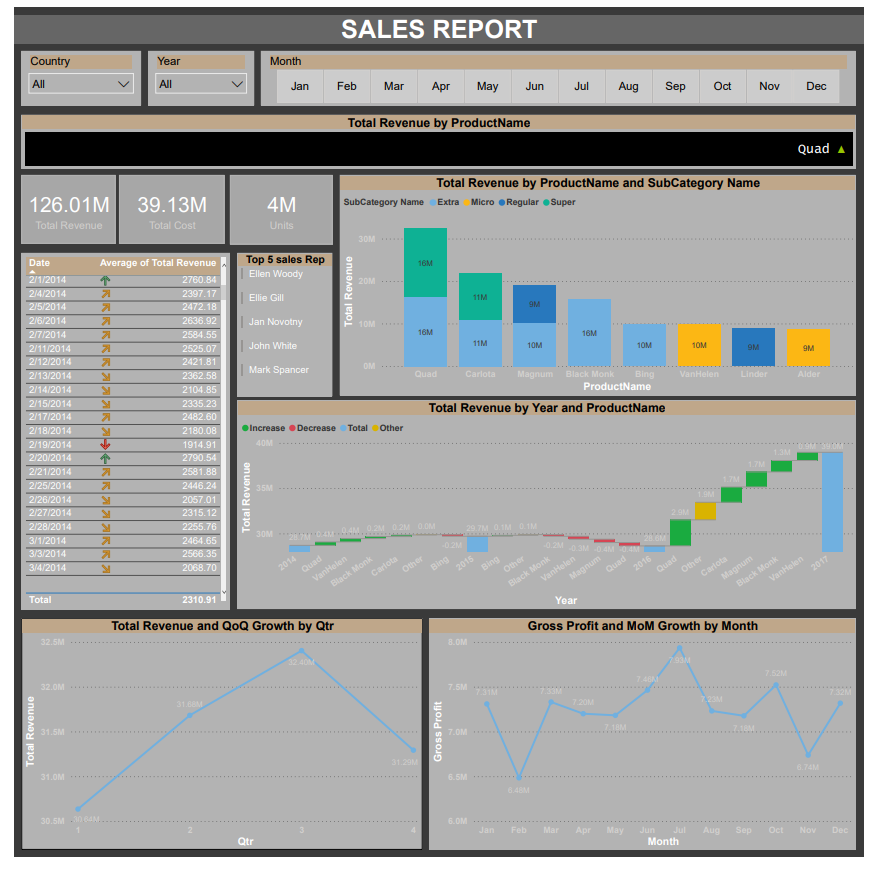

This screenshot's page, from the dashboard's own definition file:
{"tool":"powerbi","page":{"name":"Page 1","canvas":[1300,1300],"ordinal":0},"visuals":[{"type":"slicer","fields":{"Values":["Geography.Country"]},"box":[0,66.2,192.7,83.4],"z":0},{"type":"slicer","fields":{"Values":["DateMaster.Year"]},"box":[204,66.1,162.3,83.3],"z":1000},{"type":"slicer","fields":{"Values":["DateMaster.Month"]},"box":[376.8,66.2,923.2,83.4],"z":2000},{"type":"card","fields":{"Values":["sales.Total Revenue"]},"box":[0,256,153.9,105],"z":3000},{"type":"card","fields":{"Values":["sales.Total Cost"]},"box":[159.6,256,161.1,105],"z":4000},{"type":"card","fields":{"Values":["sales.Units"]},"box":[329.3,256,156.7,106.4],"z":5000},{"type":"multiRowCard","title":"Top 5 sales Rep ","fields":{"Values":["Sales rep.Sales Rep Name"]},"box":[329.3,375.3,156.7,218.6],"z":6000},{"type":"waterfallChart","fields":{"Category":["DateMaster.Year"],"Y":["sales.Total Revenue"],"Breakdown":["Product.ProductName"]},"box":[329.3,604,970.7,319.2],"z":7000},{"type":"columnChart","fields":{"Y":["sales.Total Revenue"],"Category":["Product.ProductName"],"Series":["Sub categories.SubCategory Name"]},"box":[497.6,256,802.4,336.5],"z":8000},{"type":"lineChart","fields":{"Y":["sales.Total Revenue"],"Category":["DateMaster.Qtr"]},"box":[0,934.7,624.1,353.8],"z":9000},{"type":"lineChart","fields":{"Y":["sales.Gross Profit"],"Category":["DateMaster.Month"]},"box":[637.1,934.7,662.9,353.8],"z":10000},{"type":"tableEx","fields":{"Values":["DateMaster.Date","sales.Total Revenue"]},"box":[0,375.3,319.2,545],"z":11000},{"type":"textbox","title":"SALES REPORT","box":[0,11.5,1300,43.1],"z":12000},{"type":"ScrollingTextVisual1448795304508","fields":{"Category":["Product.ProductName"],"Measure Deviation":["sales.Total Revenue"]},"box":[0,166.8,1300,79.1],"z":13000}]}

Visuals, with their boxes in screenshot pixels (x1, y1, x2, y2), scaled from the page's 1300x1300 canvas onto the 885x876 screenshot:
slicer - Geography.Country: (0,45,131,101)
slicer - DateMaster.Year: (139,45,249,101)
slicer - DateMaster.Month: (257,45,884,101)
card - sales.Total Revenue: (0,173,105,243)
card - sales.Total Cost: (109,173,218,243)
card - sales.Units: (224,173,331,244)
"Top 5 sales Rep " multiRowCard: (224,253,331,400)
waterfallChart - DateMaster.Year x sales.Total Revenue: (224,407,884,622)
columnChart - sales.Total Revenue x Product.ProductName: (339,173,884,399)
lineChart - sales.Total Revenue x DateMaster.Qtr: (0,630,425,868)
lineChart - sales.Gross Profit x DateMaster.Month: (434,630,884,868)
tableEx - DateMaster.Date x sales.Total Revenue: (0,253,217,620)
"SALES REPORT" textbox: (0,8,884,37)
ScrollingTextVisual1448795304508 - Product.ProductName x sales.Total Revenue: (0,112,884,166)
